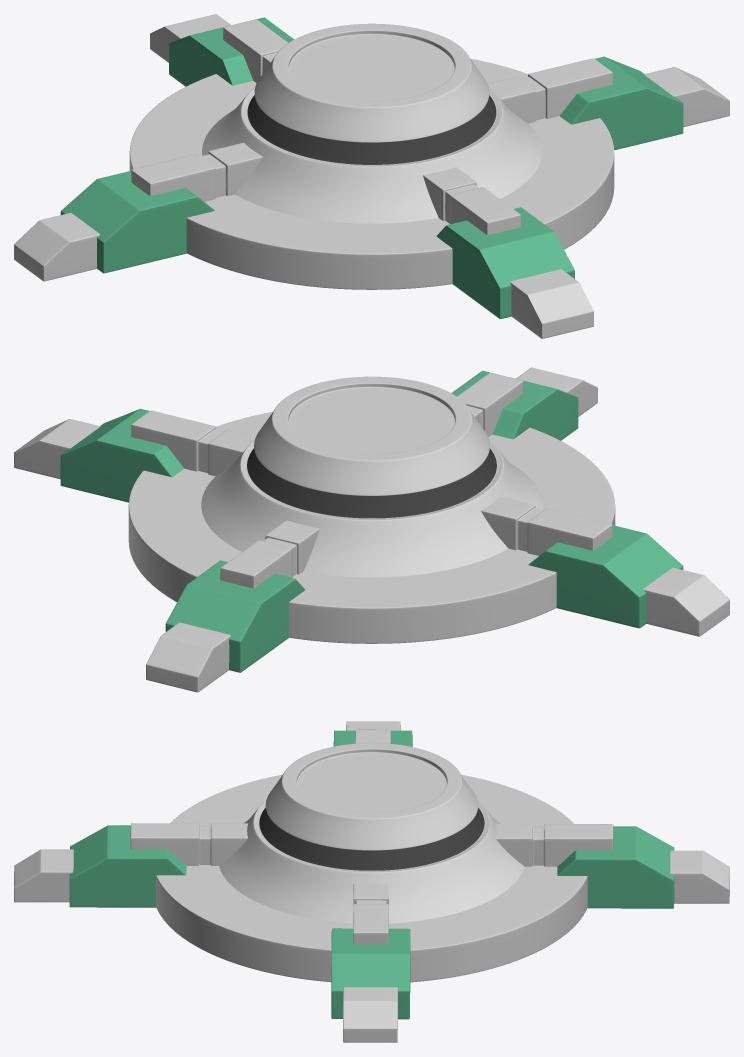
File: turretalt1.fbx
3 renders of one model, top to bottom at view 1: azimuth 30°, elevation 25°; view 2: azimuth 150°, elevation 25°; view 3: azimuth 270°, elevation 25°, orthographic. The views are drawn at different scales.
Parts seen in each view (by area): view 1: leg4; view 2: leg4; view 3: leg4.
Boxes of the visible parts, x1=… form: leg4: x1=14, y1=14, x2=729, y2=338; leg4: x1=14, y1=367, x2=729, y2=692; leg4: x1=14, y1=721, x2=729, y2=1042.
Bounding box in the file's own units: 446 × 76.27 × 446.
